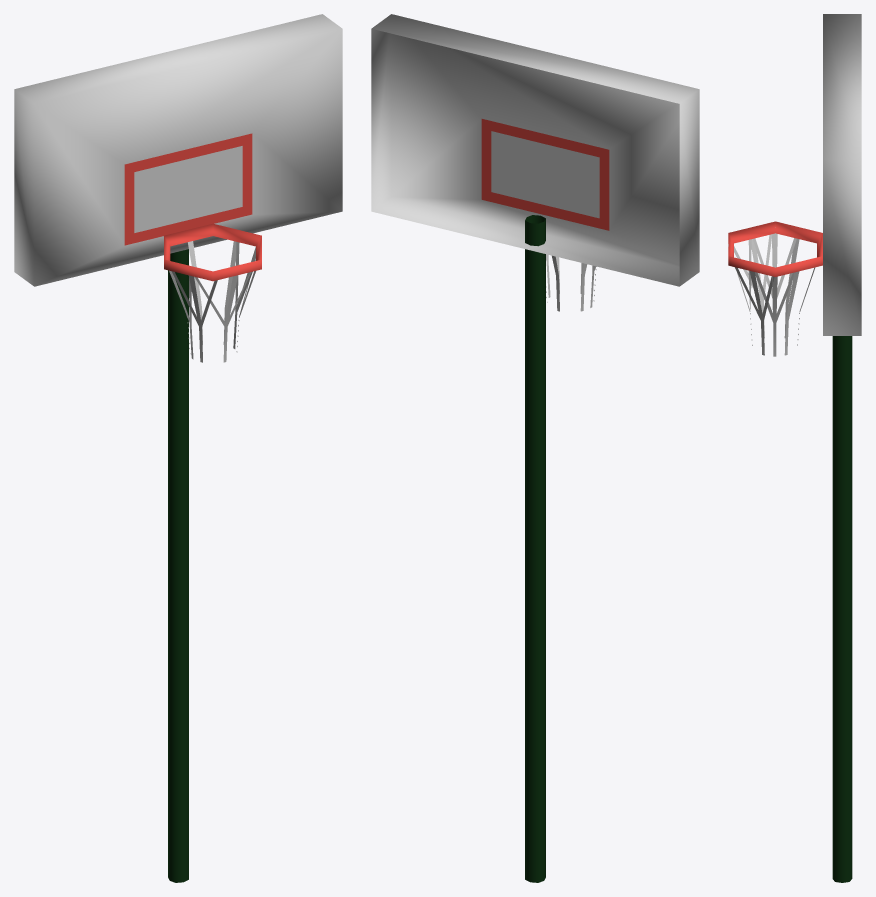
The model's file is BasketBallFence 1.fbx.
3 renders of one model, left to right at view 1: azimuth 30°, elevation 25°; view 2: azimuth 150°, elevation 25°; view 3: azimuth 270°, elevation 25°, orthographic. The views are drawn at different scales.
Visible parts, largest first — view 1: 큐브.004; view 2: 큐브.004; view 3: 큐브.004.
Boxes of the visible parts, left/top/right/bottom form: 큐브.004: left=14, top=14, right=342, bottom=882; 큐브.004: left=371, top=14, right=699, bottom=882; 큐브.004: left=728, top=14, right=861, bottom=882.
Bounding box in the file's own units: 200 × 508 × 77.65.
